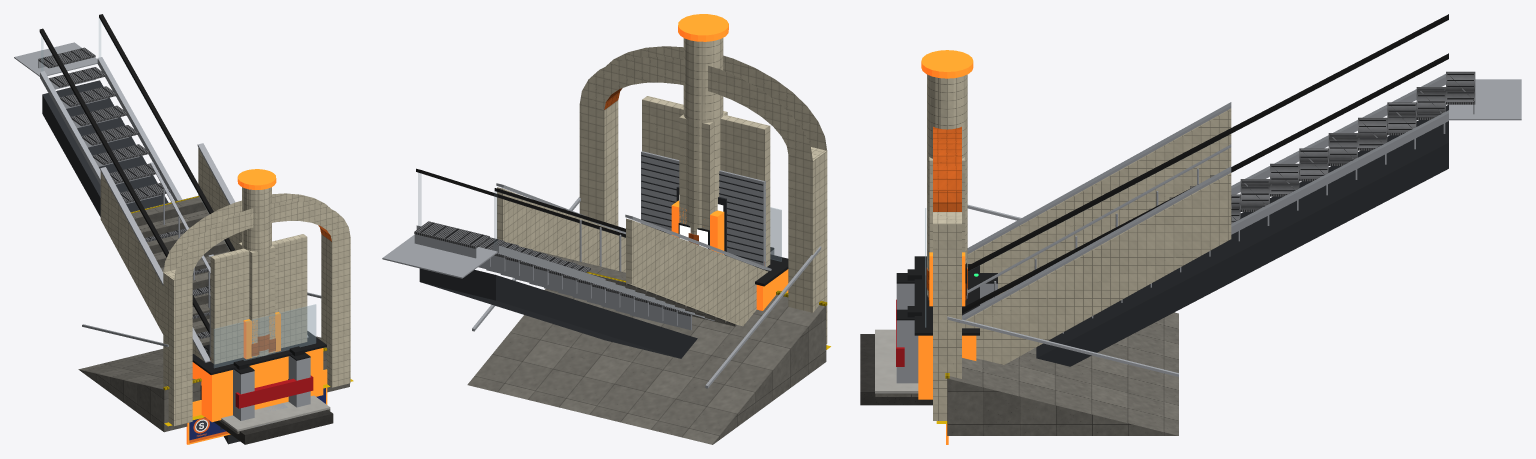
File: station_kit.glb
3 renders of one model, left to right at view 1: azimuth 30°, elevation 25°; view 2: azimuth 150°, elevation 25°; view 3: azimuth 270°, elevation 25°, orthographic. The views are drawn at different scales.
Visible parts, largest first — view 1: arch_portal, escalator_static, stairs_flight, ticket_counter, concourse_wall_2m, platform_end_ramp, pillar_round, buffer_stop, fare_gate, pillar_square, concourse_ceiling_2m, sign_name_hanging (+9 smaller); view 2: platform_end_ramp, arch_portal, stairs_flight, escalator_static, pillar_round, shutter_2m, concourse_wall_2m, pillar_square, ticket_counter, esc_step_17, ticket_machine, esc_step_12; view 3: stairs_flight, escalator_static, platform_end_ramp, arch_portal, pillar_round, ticket_counter, fare_gate, buffer_stop, concourse_ceiling_2m, esc_step_17, esc_step_12, esc_step_15 (+6 smaller).
Boxes of the visible parts, box(x1,y1,x2,y2) form: arch_portal: box(163, 193, 350, 426); escalator_static: box(14, 14, 298, 444); stairs_flight: box(100, 143, 308, 362); ticket_counter: box(192, 304, 326, 422); concourse_wall_2m: box(210, 234, 307, 364); platform_end_ramp: box(78, 292, 349, 432); pillar_round: box(237, 169, 276, 356); buffer_stop: box(214, 375, 333, 444); fare_gate: box(203, 344, 310, 420); pillar_square: box(238, 242, 275, 357); concourse_ceiling_2m: box(221, 395, 330, 431); sign_name_hanging: box(186, 385, 327, 444); platform_end_ramp: box(467, 197, 827, 444); arch_portal: box(579, 46, 827, 343); stairs_flight: box(496, 183, 771, 326); escalator_static: box(382, 168, 714, 358); pillar_round: box(678, 14, 728, 245); shutter_2m: box(641, 151, 765, 269); concourse_wall_2m: box(642, 96, 770, 266); pillar_square: box(679, 111, 727, 249); ticket_counter: box(755, 207, 788, 310); esc_step_17: box(414, 221, 489, 258); ticket_machine: box(671, 200, 724, 254); esc_step_12: box(486, 255, 561, 284); stairs_flight: box(962, 102, 1231, 364); escalator_static: box(962, 14, 1521, 366); platform_end_ramp: box(945, 204, 1178, 435); arch_portal: box(933, 126, 961, 420); pillar_round: box(921, 50, 973, 297); ticket_counter: box(914, 208, 979, 399); fare_gate: box(896, 269, 997, 383); buffer_stop: box(860, 299, 932, 405); concourse_ceiling_2m: box(875, 329, 918, 393); esc_step_17: box(1446, 71, 1475, 114); esc_step_12: box(1299, 148, 1328, 195); esc_step_15: box(1387, 102, 1416, 149).
Bounding box in the file's own units: 4 × 5.75 × 9.13.
32 materials, 15 textured.
